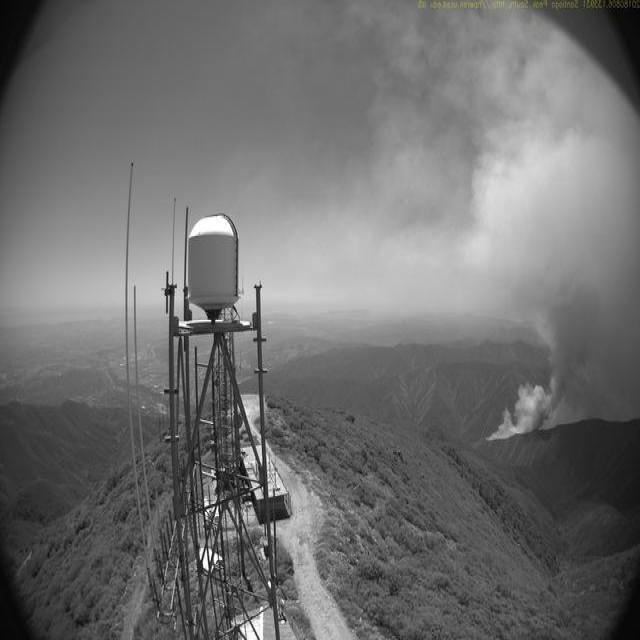Smoke: (484, 21, 640, 443)
